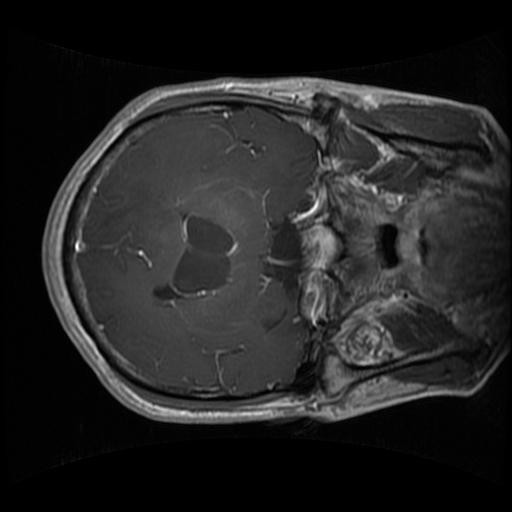glioma: (148, 214, 237, 306)
